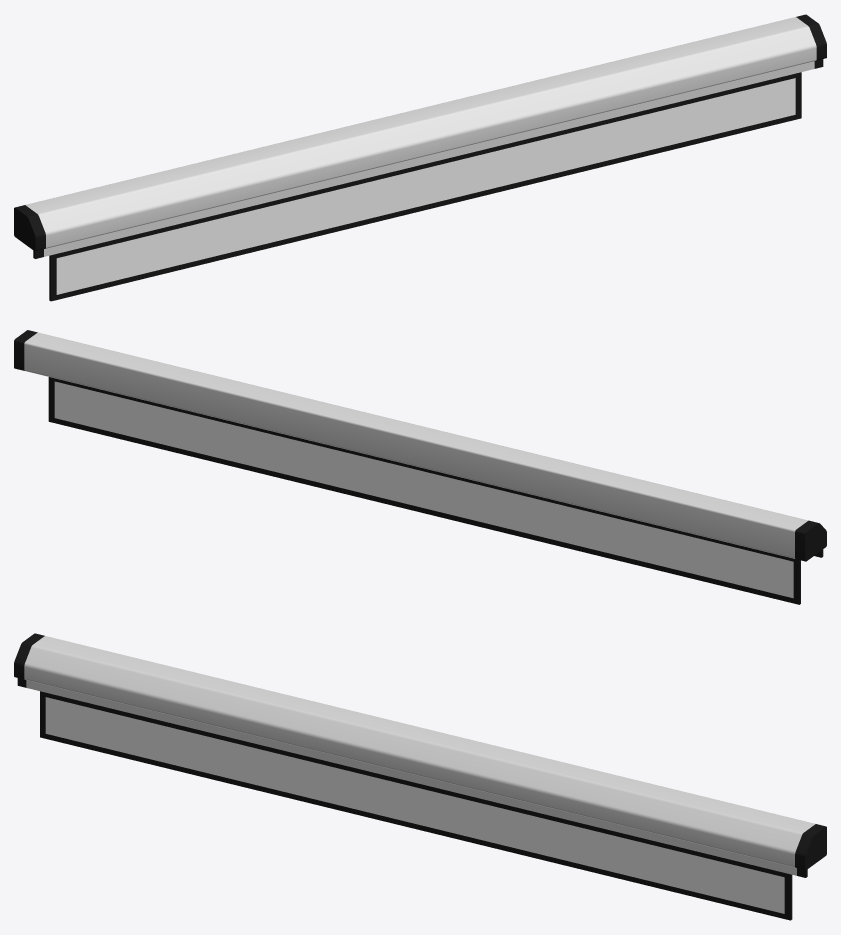
File: Proyector screen.FBX
3 views of the same model, one above another, from view 1: azimuth 30°, elevation 25°; view 2: azimuth 150°, elevation 25°; view 3: azimuth 330°, elevation 25° (orthographic).
Parts seen in each view (by area): view 1: Proyector screen; view 2: Proyector screen; view 3: Proyector screen.
Part boxes in pixels (x1=…): Proyector screen: x1=14, y1=14, x2=826, y2=301; Proyector screen: x1=14, y1=330, x2=826, y2=604; Proyector screen: x1=14, y1=633, x2=826, y2=920.
Bounding box in the file's own units: 298 × 31.54 × 14.07.
